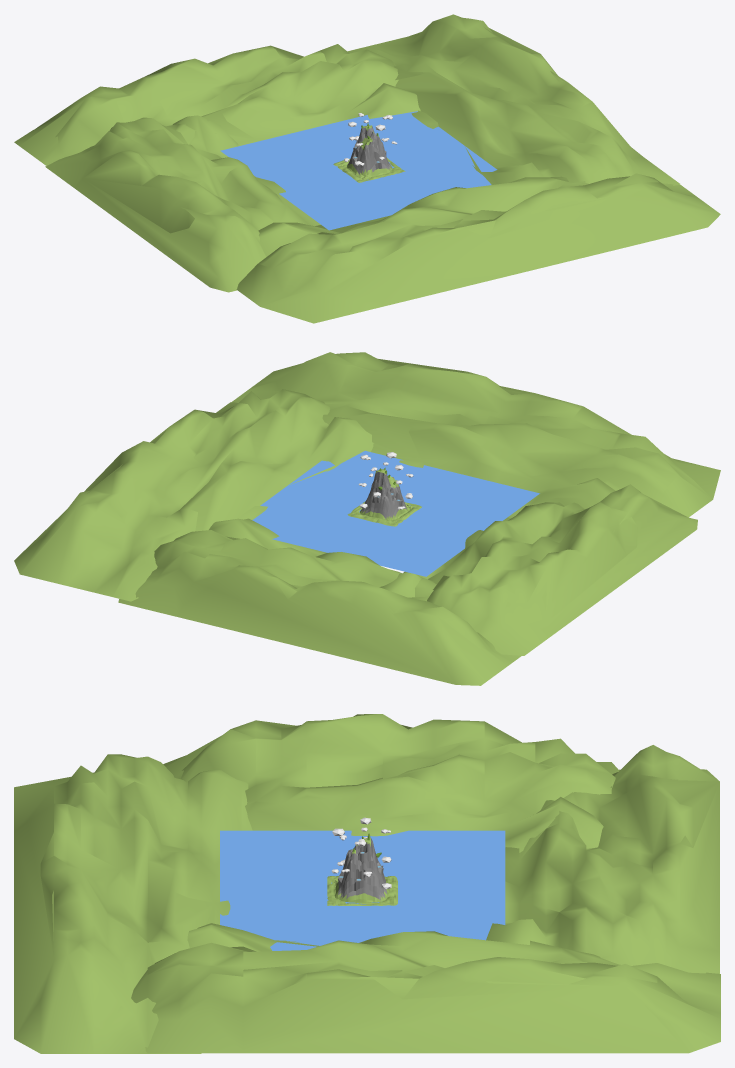
File: mountainous_valley.obj
3 views of the same model, one above another, from view 1: azimuth 30°, elevation 25°; view 2: azimuth 150°, elevation 25°; view 3: azimuth 270°, elevation 25° (orthographic). The views are drawn at different scales.
Size of the model in its own units: 1023 by 148 by 1045.
2 materials, 2 textured.
